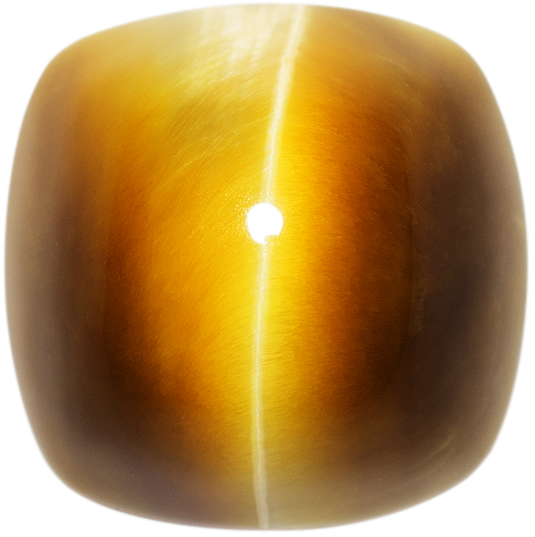Tigers_Eye: (5, 6, 535, 533)
